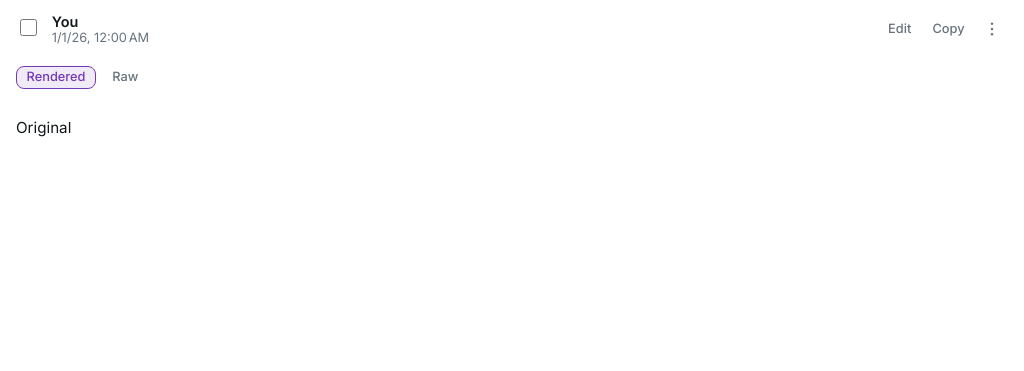
Test: message editor › keeps the draft open when saving fails and allows a successful retry
Click the button "Edit" at [900, 29], box 878,18 -> 922,41
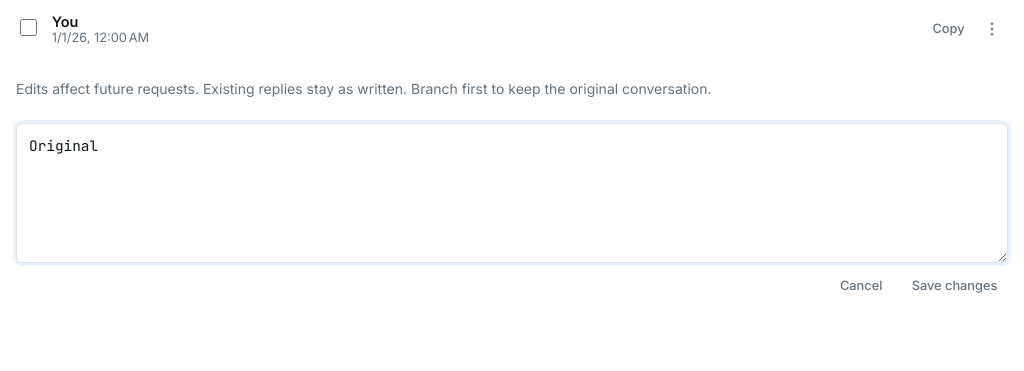
Replace the text in the text box named "Edit message" with "Updated text" at [512, 193], box 16,123 -> 1008,263
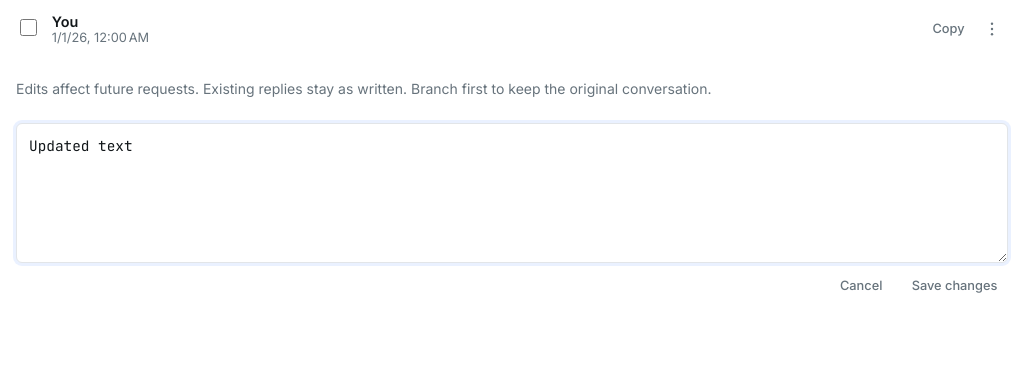
Click the button "Save changes" at [954, 286], box 901,275 -> 1008,298
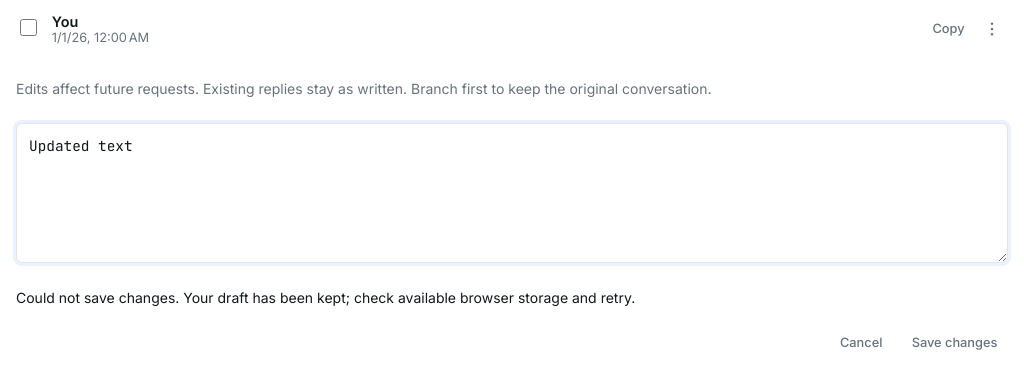
expect the message shows "Could not save": met, box 16,289 -> 635,306
Click the button "Save changes" at [954, 343], box 901,332 -> 1008,355
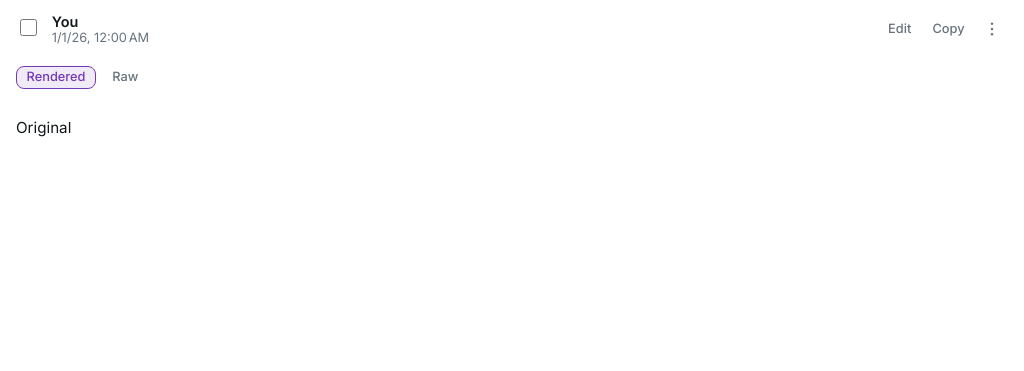
expect the text box is gone: met
